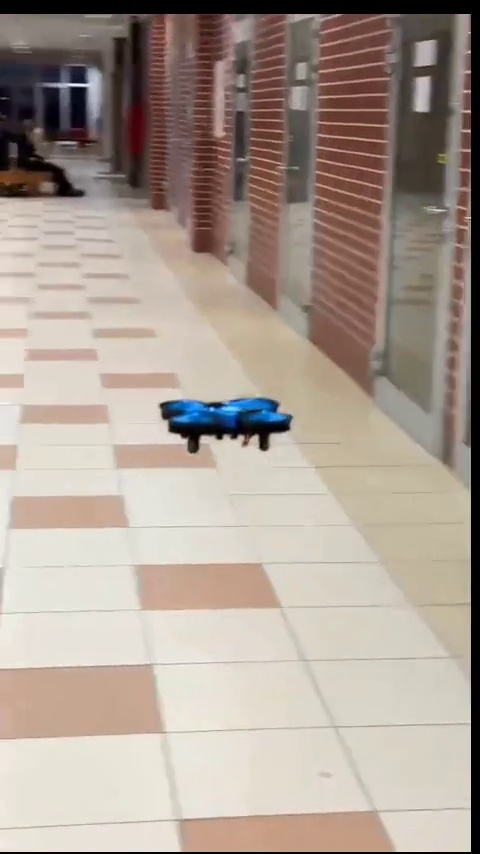drone: (157, 392, 292, 458)
